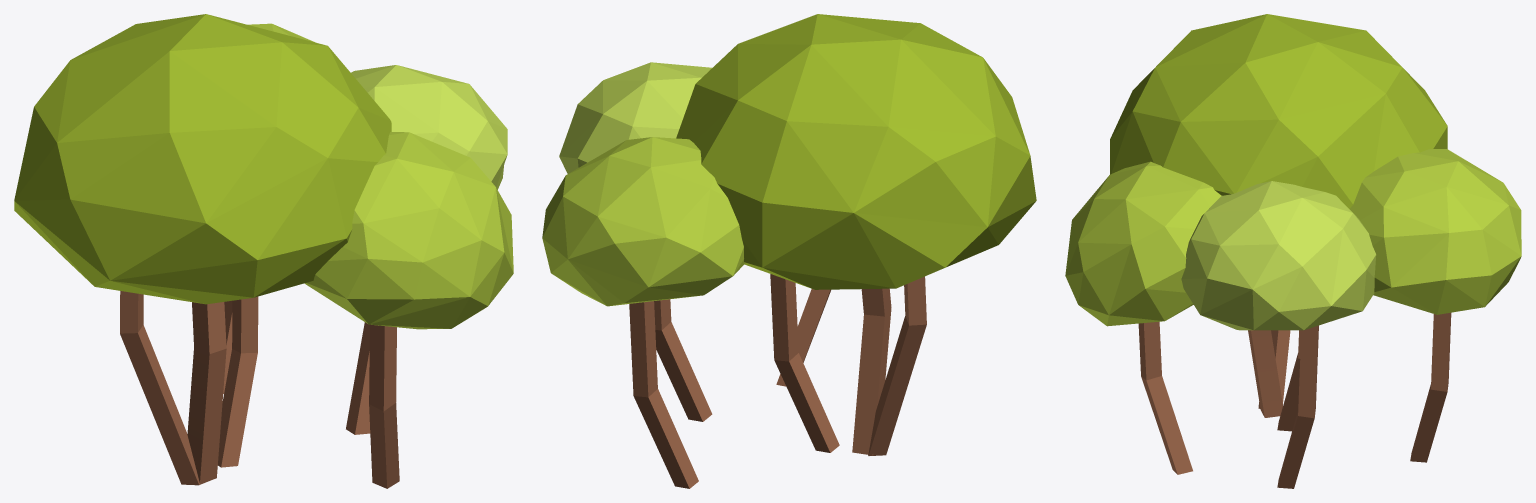
The model's file is bush_3.fbx.
3 renders of one model, left to right at view 1: azimuth 30°, elevation 25°; view 2: azimuth 150°, elevation 25°; view 3: azimuth 270°, elevation 25°, orthographic. The views are drawn at different scales.
Parts seen in each view (by area): view 1: bush_3; view 2: bush_3; view 3: bush_3.
Boxes of the visible parts, x1,y1,x2,y2 form: bush_3: (14, 14, 513, 488); bush_3: (542, 14, 1036, 488); bush_3: (1065, 14, 1521, 488).
Bounding box in the file's own units: 166 × 151 × 162.
